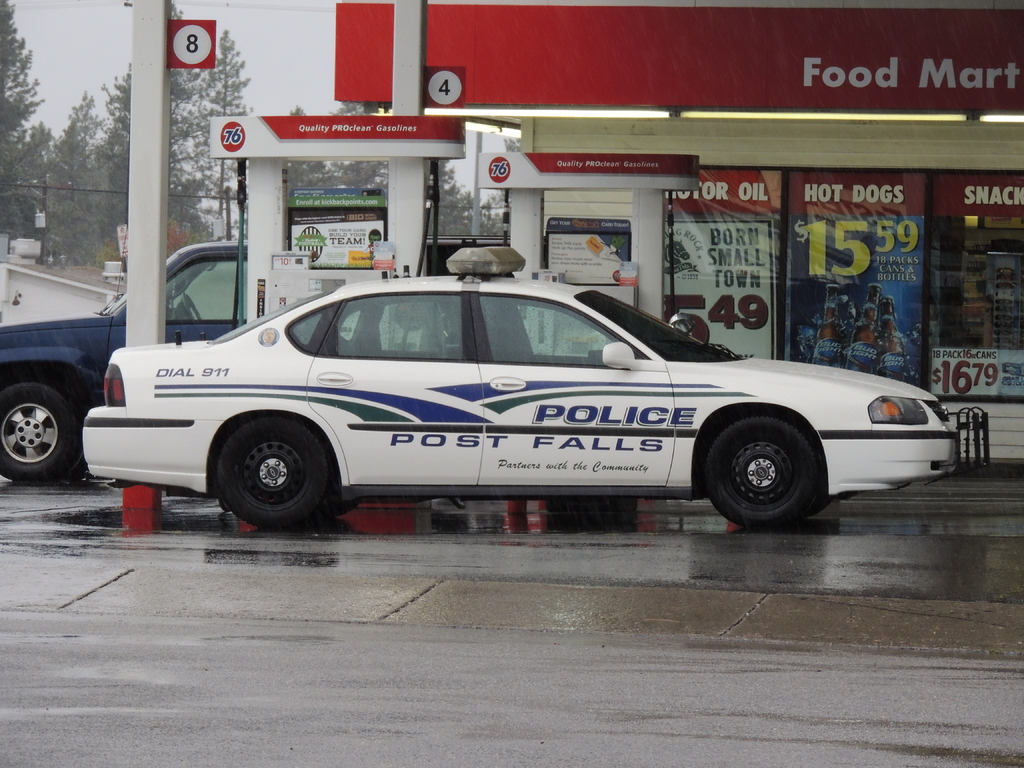Car: (81, 244, 961, 530)
